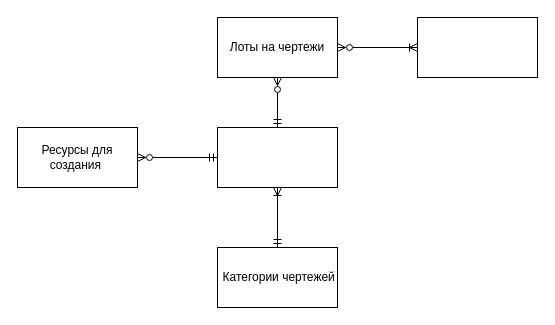
This 555x325 diagram has some shape labels left out. Here are the shapes that lost their labels. From the top down, the box of each, then its label:
(416, 16, 538, 78): Продавцы
(216, 126, 338, 188): Чертежи
